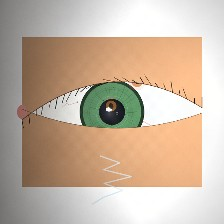foreign_body_visible: (121, 68, 153, 94)
